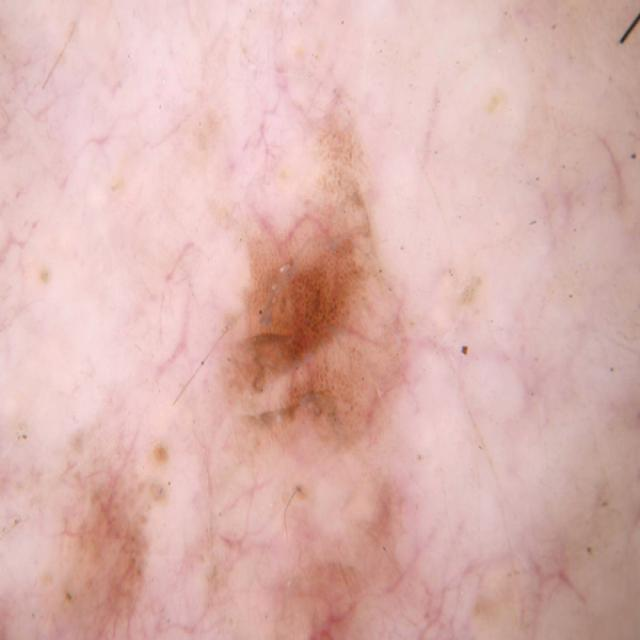Skin-Cancer Squamous cell carcinoma: (3, 1, 640, 640)
